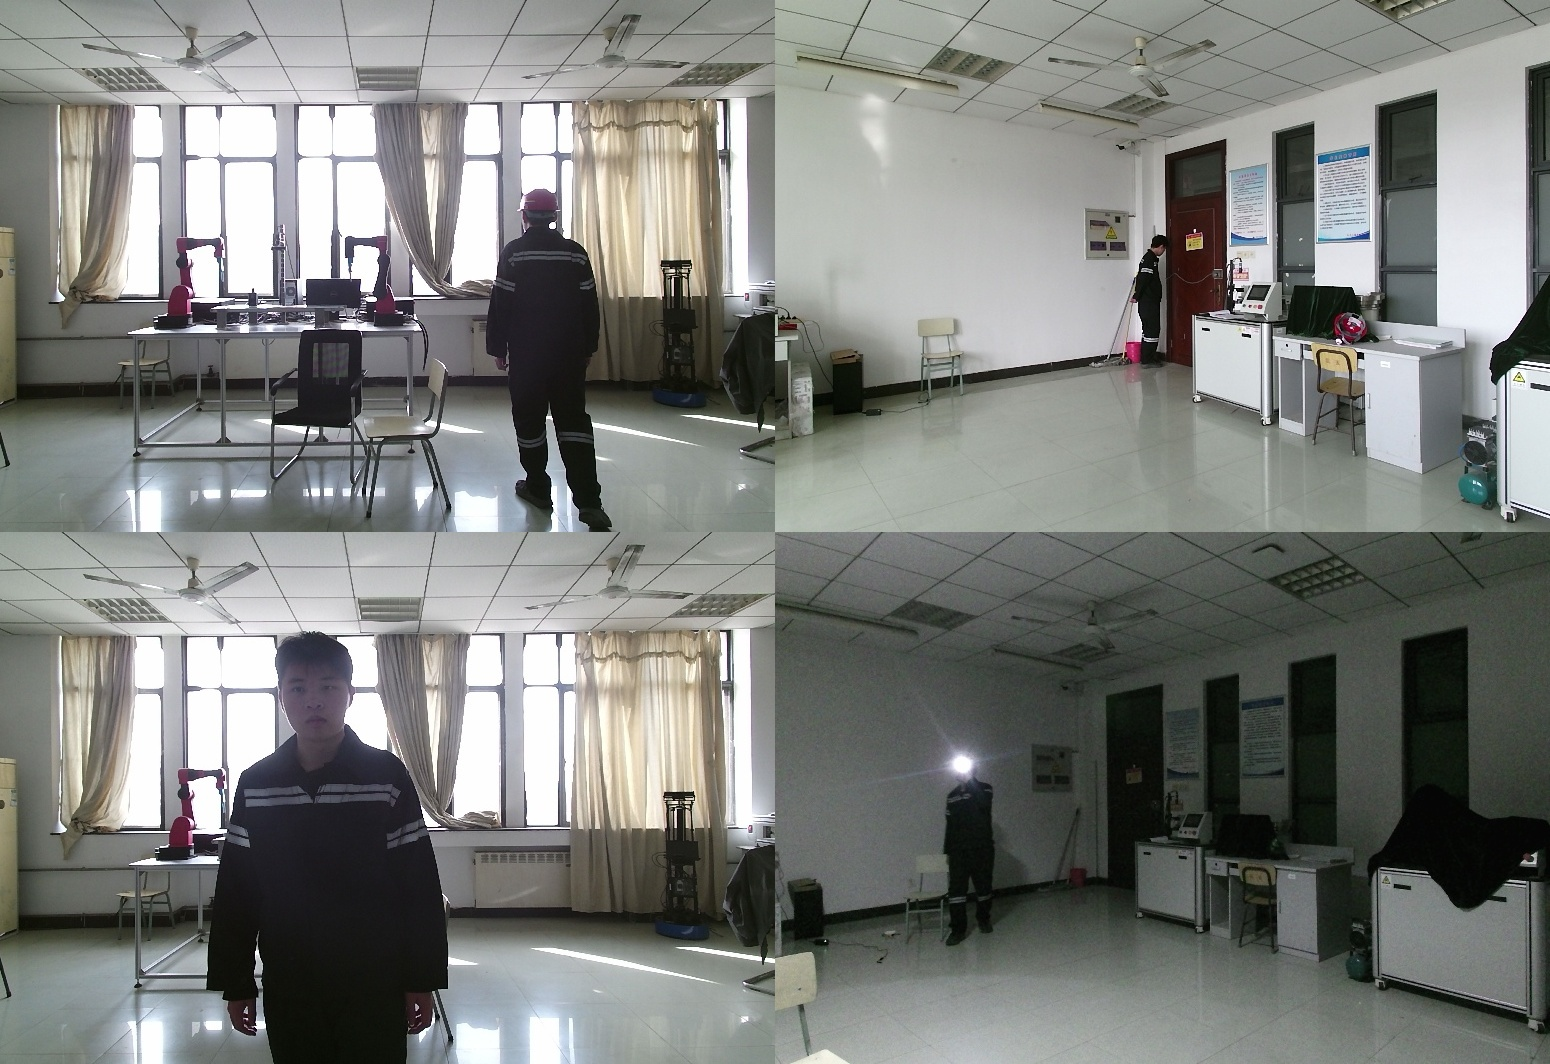person: (220, 632, 459, 1064), (489, 188, 618, 532), (935, 753, 1000, 953), (1132, 236, 1173, 374)
